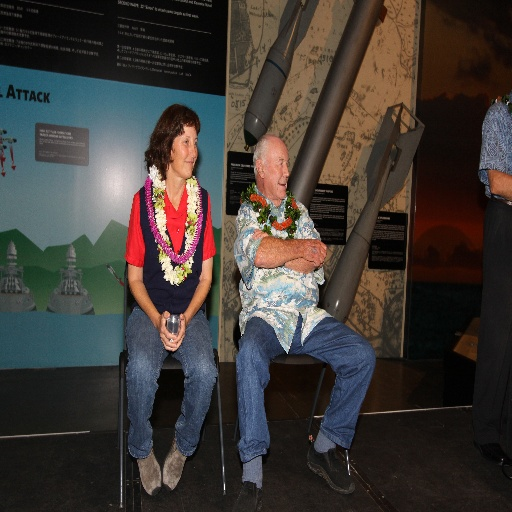hand: (304, 236, 328, 268), (157, 310, 176, 349), (172, 312, 187, 352), (251, 226, 268, 240)
